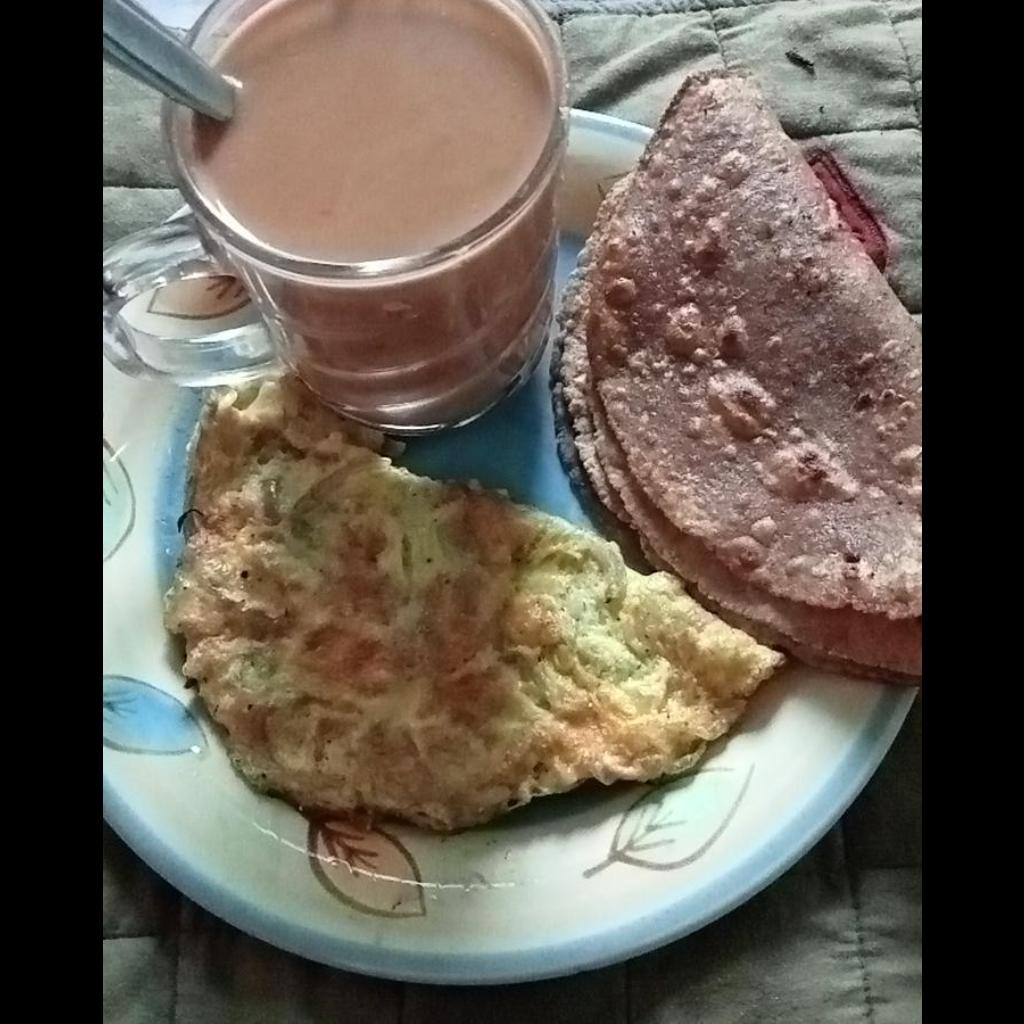cha: (200, 0, 554, 256)
egg-poached: (160, 379, 778, 837)
ruti: (555, 65, 920, 687)
